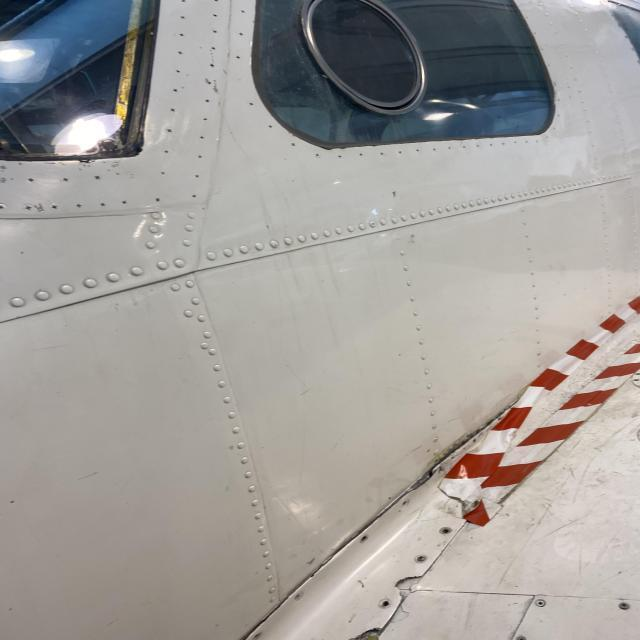Crack: (402, 408, 506, 487), (242, 591, 296, 640), (388, 574, 436, 599), (343, 625, 392, 640)
Missing_Fastener: (378, 598, 393, 608), (357, 534, 372, 542), (439, 528, 452, 534)
